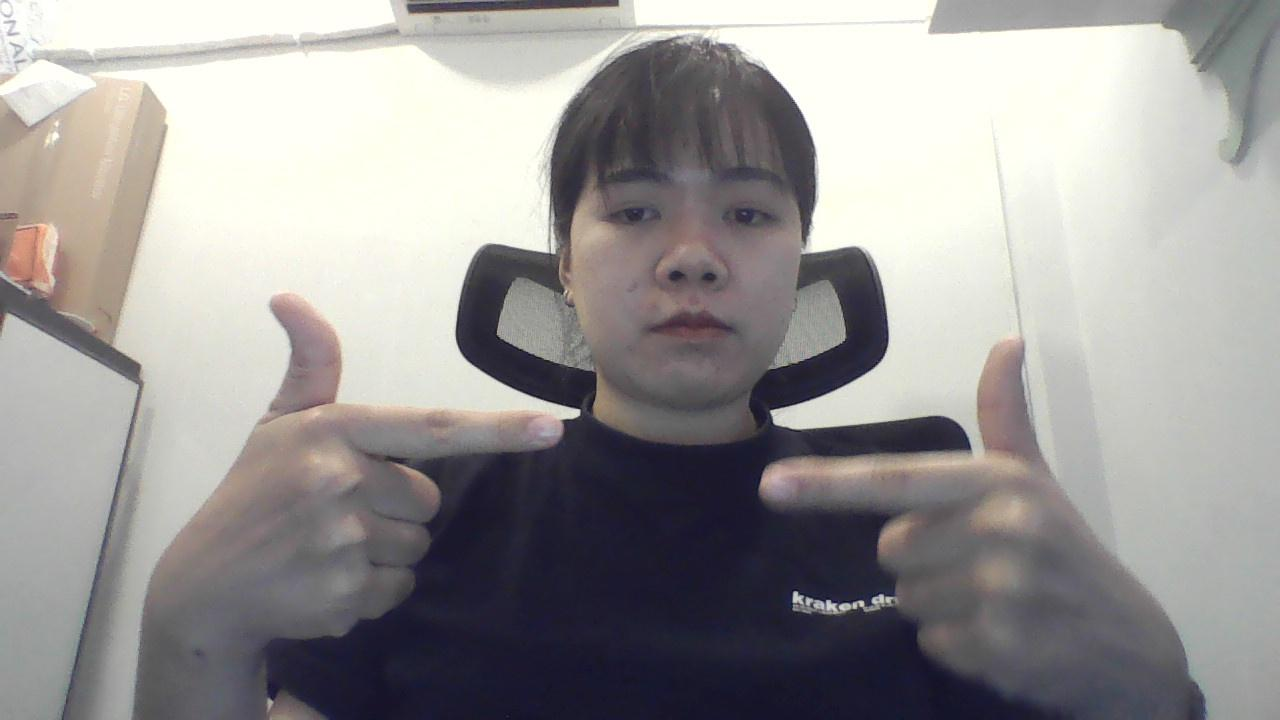G: (134, 277, 566, 688), (741, 334, 1198, 714)
